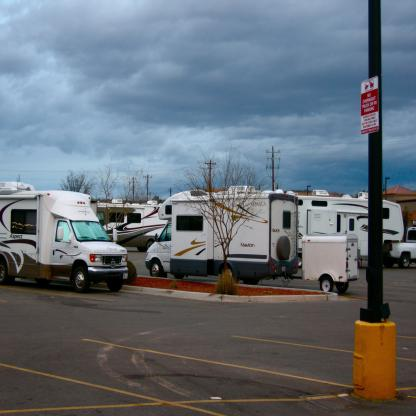Truck: (143, 185, 302, 279), (5, 191, 129, 294), (294, 182, 413, 276), (98, 197, 175, 252)
